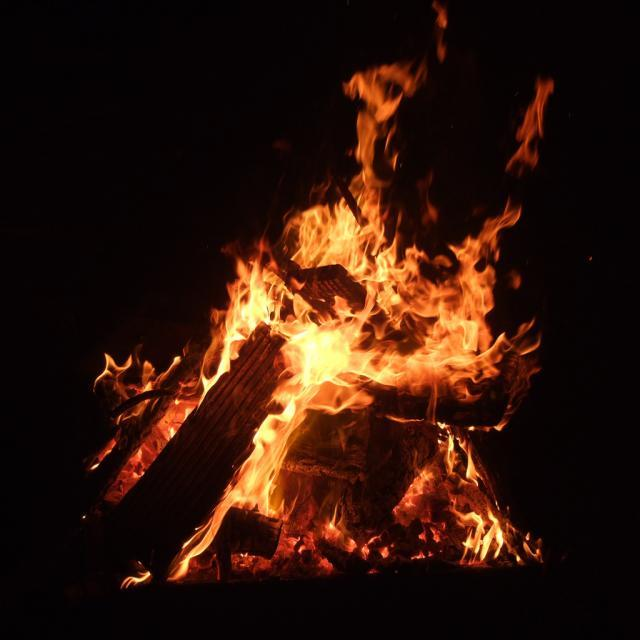Fire: (438, 308, 483, 378), (299, 328, 345, 392), (310, 216, 362, 262)
